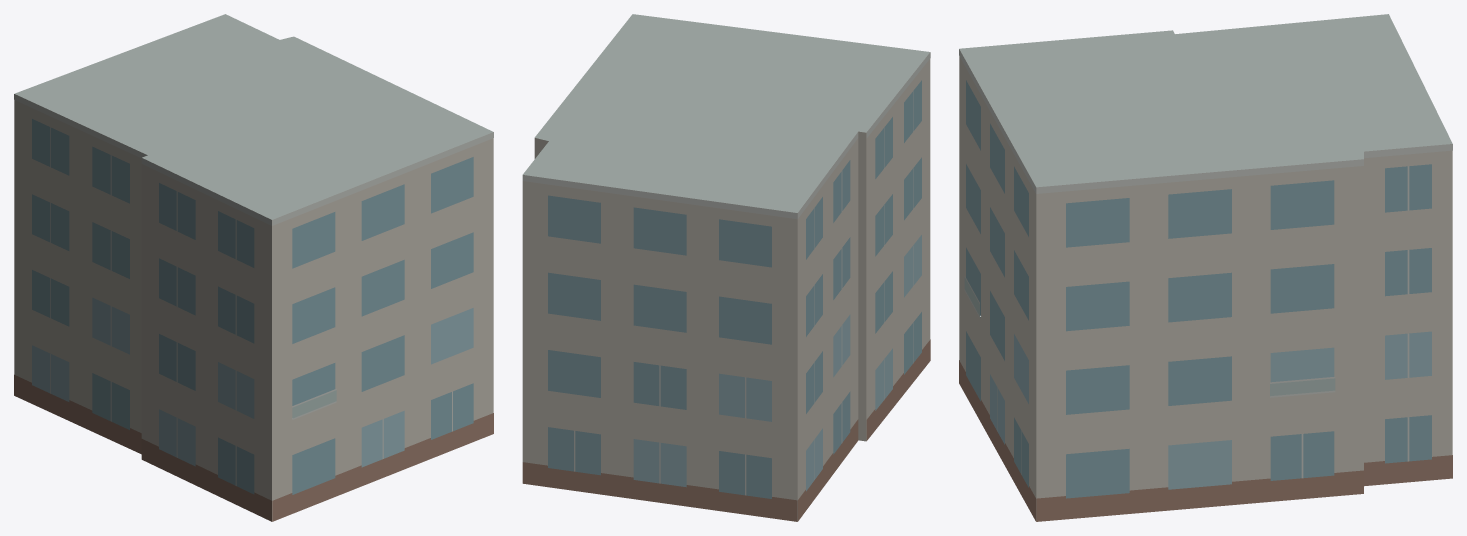
The model's file is survey-upis-32795789.glb.
3 renders of one model, left to right at view 1: azimuth 30°, elevation 25°; view 2: azimuth 150°, elevation 25°; view 3: azimuth 270°, elevation 25°, orthographic. The views are drawn at different scales.
Parts seen in each view (by area): view 1: survey-upis-32795789.tmp; view 2: survey-upis-32795789.tmp; view 3: survey-upis-32795789.tmp.
Boxes of the visible parts, x1,y1,x2,y2 form: survey-upis-32795789.tmp: [14, 14, 493, 521]; survey-upis-32795789.tmp: [522, 14, 930, 521]; survey-upis-32795789.tmp: [959, 14, 1452, 521].
Size of the model in its own units: 13.57 by 12.2 by 16.33.
